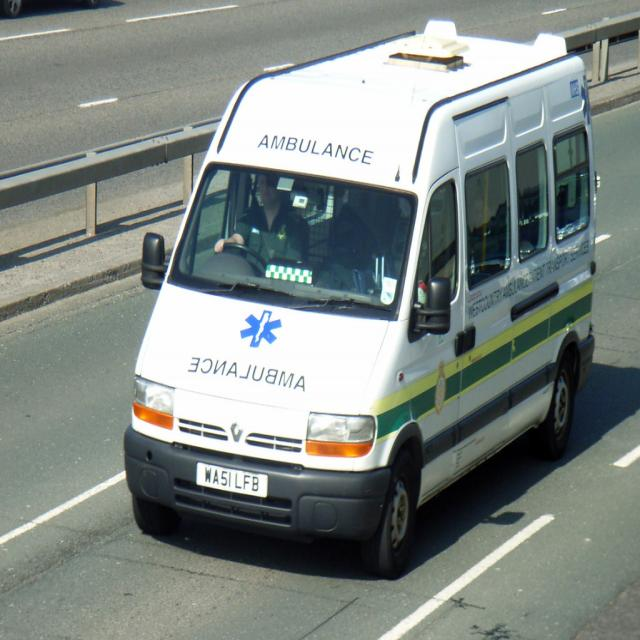Ambulance: (123, 19, 596, 578)
